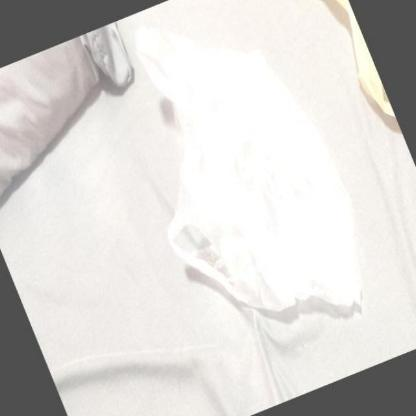Plastic Bag: (134, 0, 367, 312)
